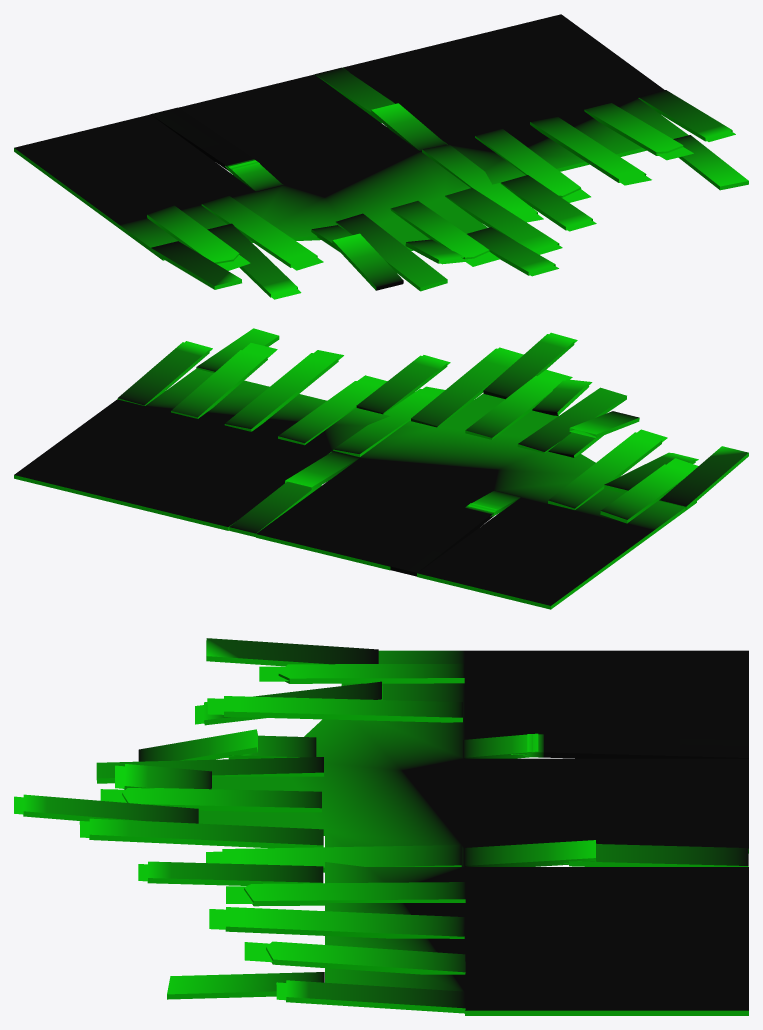
File: DBK_WoodFloor_Tile_B.fbx
3 views of the same model, one above another, from view 1: azimuth 30°, elevation 25°; view 2: azimuth 150°, elevation 25°; view 3: azimuth 270°, elevation 25° (orthographic). The views are drawn at different scales.
Visible parts, largest first — view 1: DBK_WoodFloor_Tile_B; view 2: DBK_WoodFloor_Tile_B; view 3: DBK_WoodFloor_Tile_B.
Boxes of the visible parts, x1,y1,x2,y2 form: DBK_WoodFloor_Tile_B: (14,14,748,299); DBK_WoodFloor_Tile_B: (14,328,748,609); DBK_WoodFloor_Tile_B: (14,638,748,1015).
Size of what is drawn, in the model's own units: 300 by 15.35 by 259.
